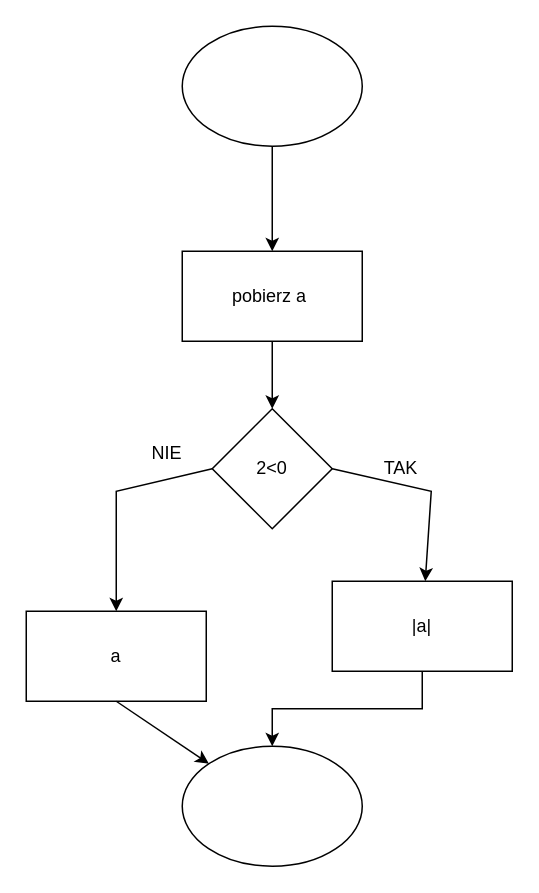
Some shapes in this 539 by 893 pixel diagram are drawn without their labels. The shapes that lost their labels are listed below. From the top down, each one's centre as x and y in pixels, then its label:
the point at 271,85: START
the point at 271,805: STOP
